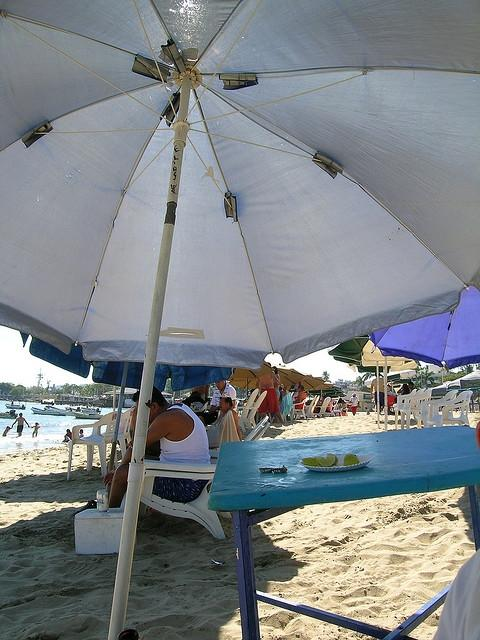lime: (314, 456, 336, 466), (343, 454, 360, 466), (302, 458, 320, 467)
